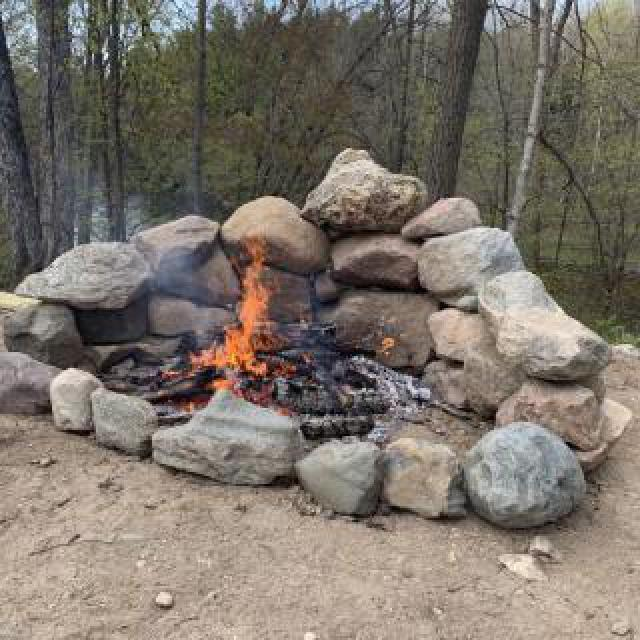Fire: (192, 238, 280, 396)
